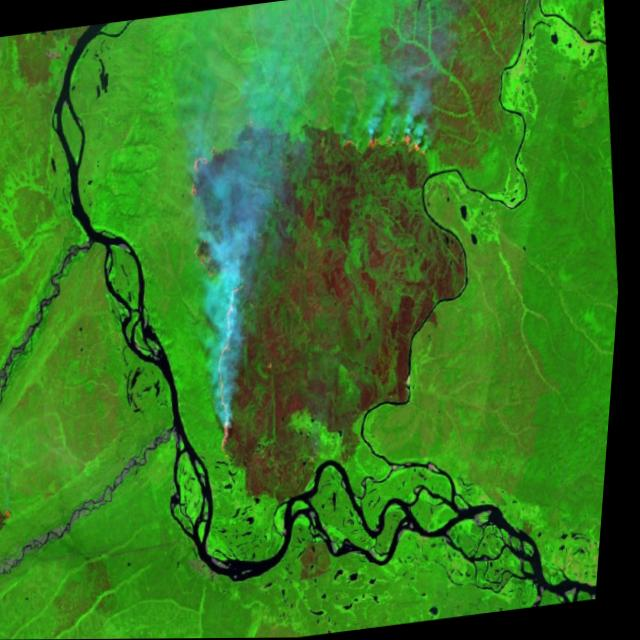fire: (168, 140, 280, 466), (329, 109, 437, 174)
